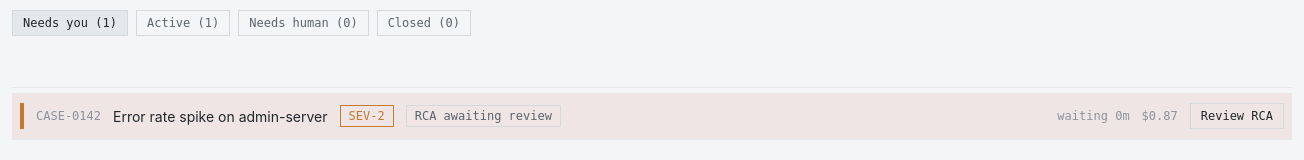
Test: pipeline case shows kind badge and failure class on the active tab
Click the button "Active (1)": (183, 23) [136,10,230,36]
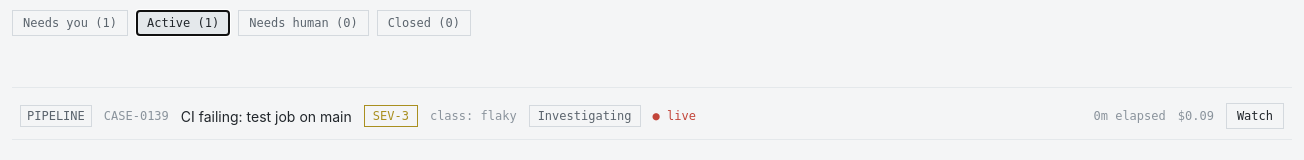
Result: the text "PIPELINE" is shown at [20,105,92,127]
Result: the text "class: flaky" is shown at [430,107,517,125]
